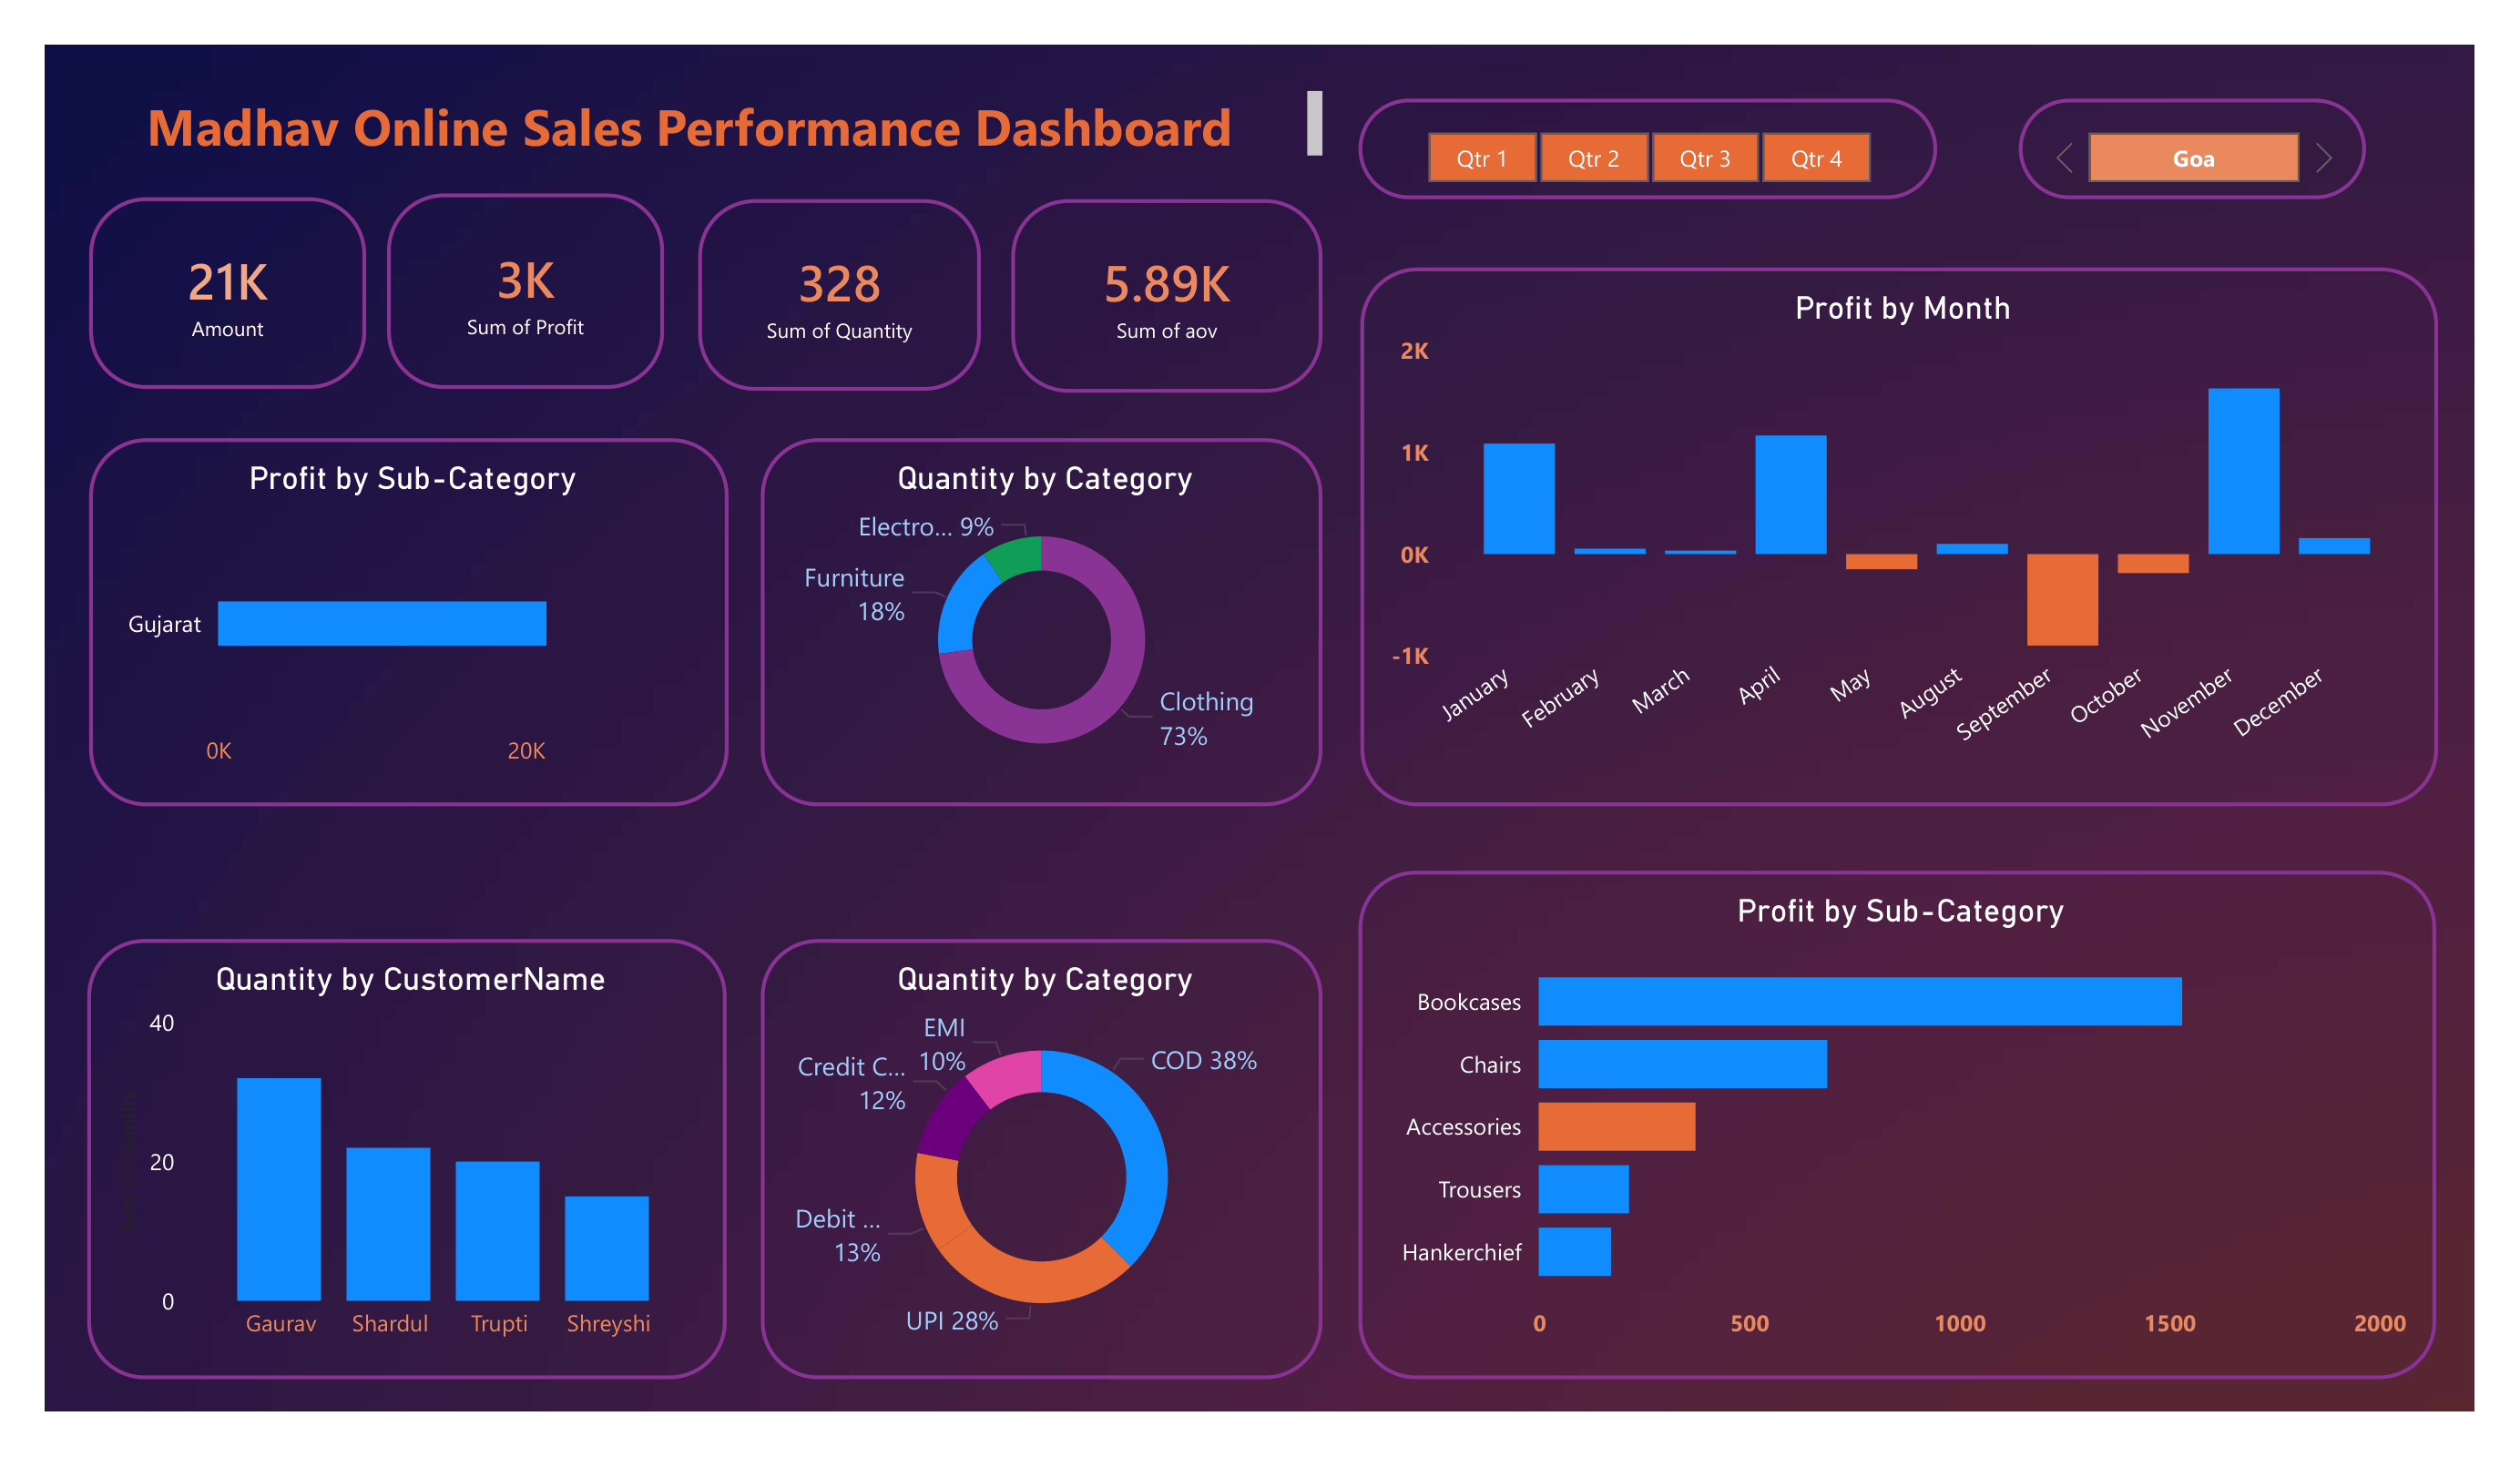

Layout of this report page (visuals, bound fields, positions):
{"tool":"powerbi","page":{"name":"Page 1","canvas":[1280,720],"ordinal":0},"visuals":[{"type":"textbox","box":[9.5,0,668,48.8],"z":0},{"type":"columnChart","title":"Profit by Month","fields":{"Category":["Orders.Order Date.Variation.Date Hierarchy.Month"],"Y":["Sum(Details.Profit)"]},"box":[691.8,76.2,568.4,283.4],"z":1000},{"type":"barChart","title":" Profit by Sub-Category","fields":{"Category":["Details.Sub-Category"],"Y":["Sum(Details.Profit)"]},"box":[691.8,385.5,568.4,268.2],"z":2000},{"type":"donutChart","title":" Quantity by Category","fields":{"Category":["Details.Category"],"Y":["Sum(Details.Quantity)"]},"box":[377.9,166.2,295.6,194.1],"z":3000},{"type":"donutChart","title":" Quantity by Category","fields":{"Y":["Sum(Details.Quantity)"],"Category":["Details.PaymentMode"]},"box":[377.9,422.1,295.6,232.4],"z":4000},{"type":"cardVisual","fields":{"Data":["Sum(Details.Amount)"]},"box":[22.1,50,145.6,101.5],"z":5000},{"type":"cardVisual","fields":{"Data":["Sum(Details.Profit)"]},"box":[179.4,50,145.6,102.9],"z":6000},{"type":"cardVisual","fields":{"Data":["Sum(Details.Quantity)"]},"box":[344.1,50,148.5,101.5],"z":7000},{"type":"cardVisual","fields":{"Data":["Sum(Details.aov)"]},"box":[510.3,48.5,163.2,102.9],"z":8000},{"type":"barChart","title":" Profit by Sub-Category","fields":{"Category":["Orders.State"],"Y":["Sum(Details.Amount)"]},"box":[22.1,166.2,336.8,194.1],"z":9000},{"type":"columnChart","title":" Quantity by CustomerName","fields":{"Category":["Orders.CustomerName"],"Y":["Sum(Details.Quantity)"]},"box":[22,422,337,232],"z":10000},{"type":"slicer","fields":{"Values":["Orders.Order Date.Variation.Date Hierarchy.Quarter"]},"box":[691.8,10.7,304.8,53.3],"z":11000},{"type":"slicer","fields":{"Values":["Orders.State"]},"box":[1046.9,10.7,182.9,53.3],"z":12000}]}

Visuals, with their boxes on the page's 1280x720 design canvas (x1, y1, x2, y2). These are canvas units, not pixel positions in the 2520x1457 screenshot, which may show the page scaled, cropped or inside an application window:
textbox: left=10, top=0, right=678, bottom=49
"Profit by Month" columnChart: left=692, top=76, right=1260, bottom=360
" Profit by Sub-Category" barChart: left=692, top=386, right=1260, bottom=654
" Quantity by Category" donutChart: left=378, top=166, right=674, bottom=360
" Quantity by Category" donutChart: left=378, top=422, right=674, bottom=654
cardVisual - Sum(Details.Amount): left=22, top=50, right=168, bottom=152
cardVisual - Sum(Details.Profit): left=179, top=50, right=325, bottom=153
cardVisual - Sum(Details.Quantity): left=344, top=50, right=493, bottom=152
cardVisual - Sum(Details.aov): left=510, top=48, right=674, bottom=151
" Profit by Sub-Category" barChart: left=22, top=166, right=359, bottom=360
" Quantity by CustomerName" columnChart: left=22, top=422, right=359, bottom=654
slicer - Orders.Order Date.Variation.Date Hierarchy.Quarter: left=692, top=11, right=997, bottom=64
slicer - Orders.State: left=1047, top=11, right=1230, bottom=64
